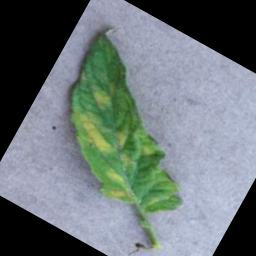Leaf_Mold: (66, 106, 144, 169), (93, 164, 138, 206), (86, 85, 119, 116)
